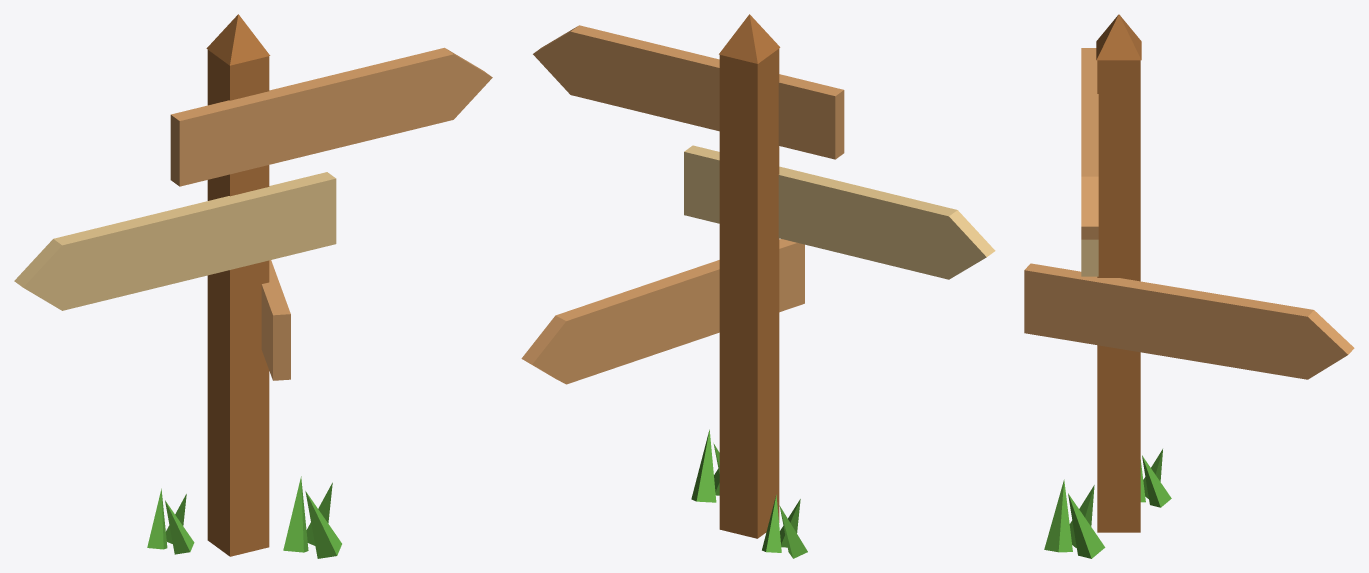
File: Signpost.fbx
3 renders of one model, left to right at view 1: azimuth 30°, elevation 25°; view 2: azimuth 150°, elevation 25°; view 3: azimuth 270°, elevation 25°, orthographic. The views are drawn at different scales.
Visible parts, largest first — view 1: Signpost; view 2: Signpost; view 3: Signpost.
Boxes of the visible parts, x1=… form: Signpost: x1=14, y1=14, x2=492, y2=558; Signpost: x1=521, y1=14, x2=995, y2=558; Signpost: x1=1024, y1=14, x2=1354, y2=558.
Bounding box in the file's own units: 5.4 × 5.86 × 3.42.
Materials: 1 (1 with a texture image).
